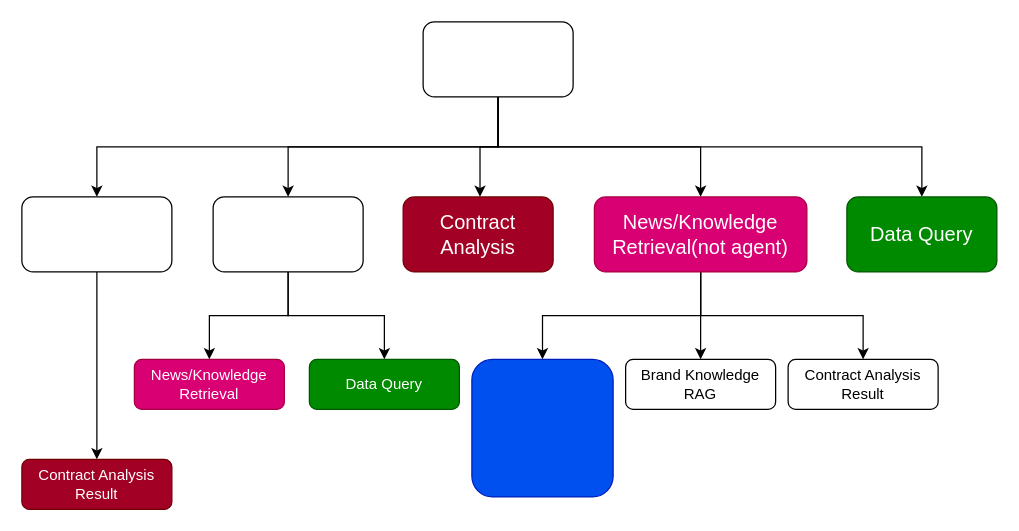
This 1019x531 diagram has some shape labels left out. The box of each missing label's shape, as (x1, y1, x2, y2) in pixels:
AI Report: (212, 196, 363, 272)
Orchestrator: (422, 21, 573, 97)
PO Agent: (21, 196, 172, 272)
TOOLS： - BOCHA News - Exchange Rate - Send Emails - Translation - LinkedIn MCP: (471, 358, 613, 497)
